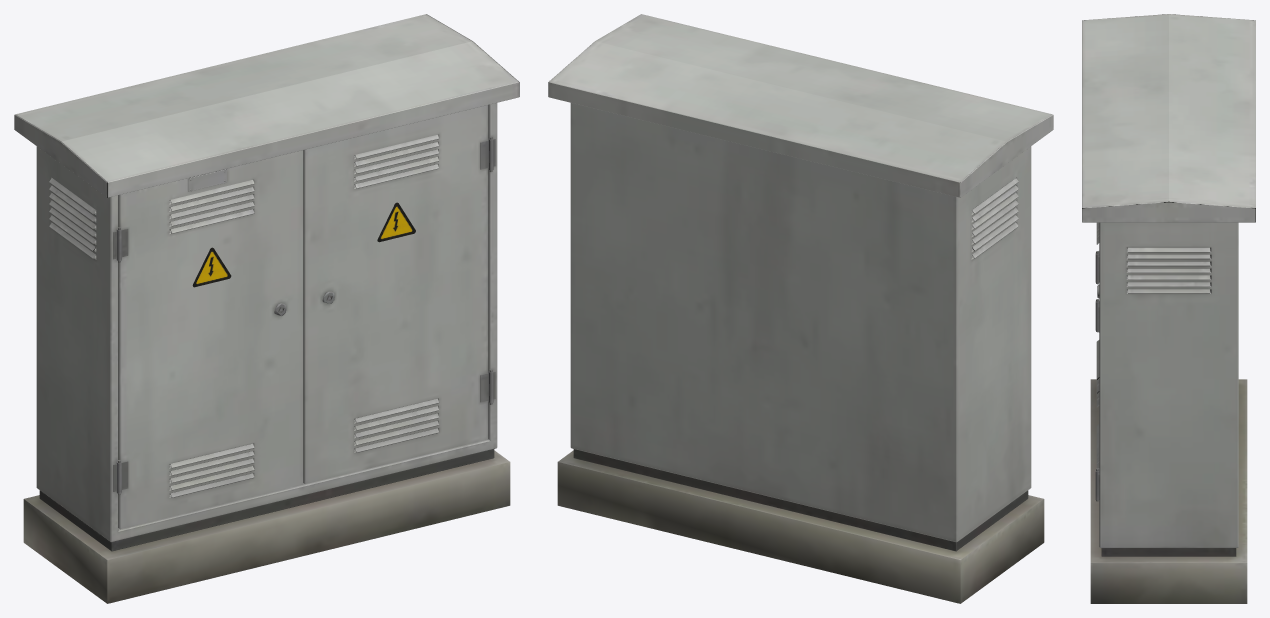
Rendered from p_cabinet.glb.
3 renders of one model, left to right at view 1: azimuth 30°, elevation 25°; view 2: azimuth 150°, elevation 25°; view 3: azimuth 270°, elevation 25°, orthographic. The views are drawn at different scales.
Parts seen in each view (by area): view 1: utility-cabinet_body, utility-cabinet_warning_decal; view 2: utility-cabinet_body; view 3: utility-cabinet_body.
Part boxes in pixels (x1,y1,x2,y2): utility-cabinet_body: (14,14,519,603); utility-cabinet_warning_decal: (192,202,415,287); utility-cabinet_body: (548,14,1053,603); utility-cabinet_body: (1082,14,1255,603).
Bounding box in the file's own units: 1.28 × 1.28 × 0.5.
2 materials, 2 textured.
